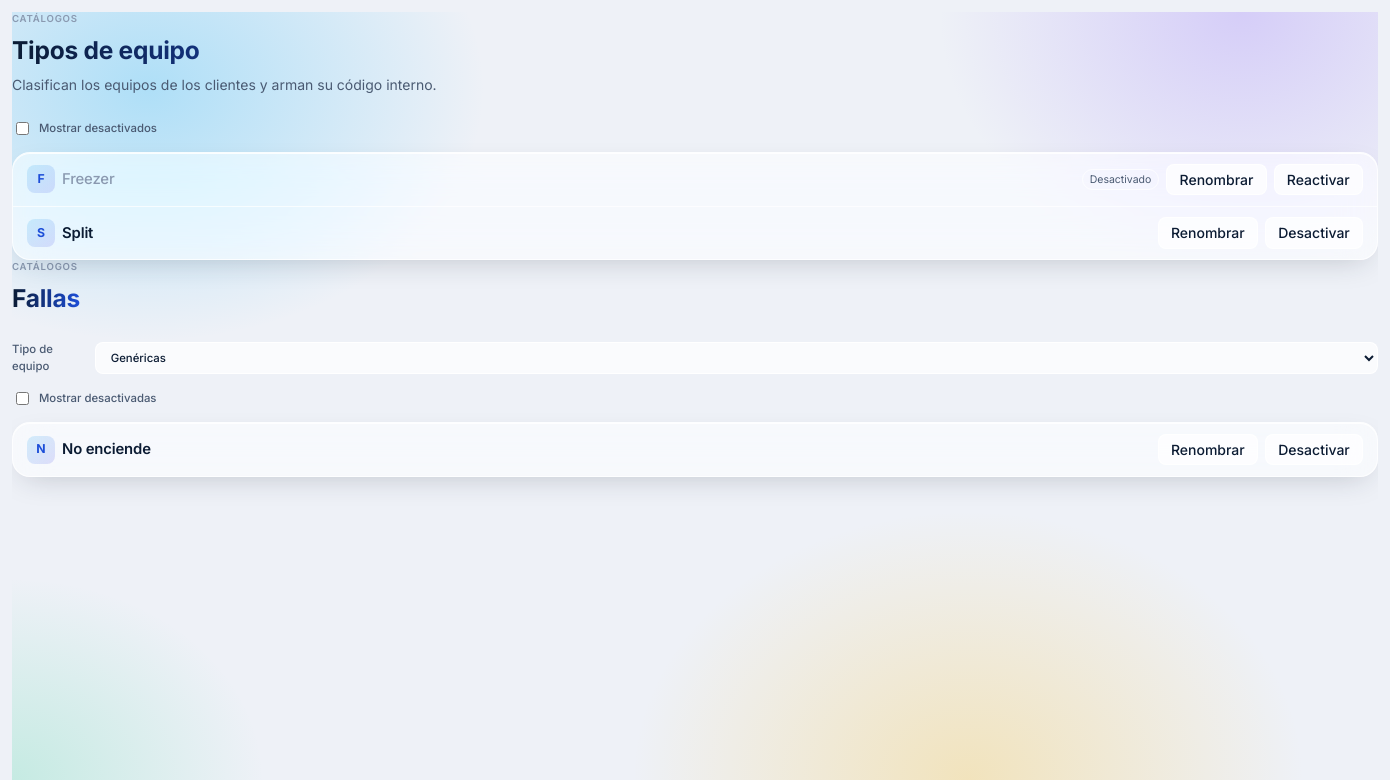
it: FailuresPage › al desactivar un tipo de equipo deja de mostrar sus fallas propias
The image size is (1390, 780).
Check: the text "No enciende" is shown, box [62,440,151,458]
Select "Split" in the dropdown labelled "Tipo de equipo" at coordinates (737, 358), box [95,342,1378,374]
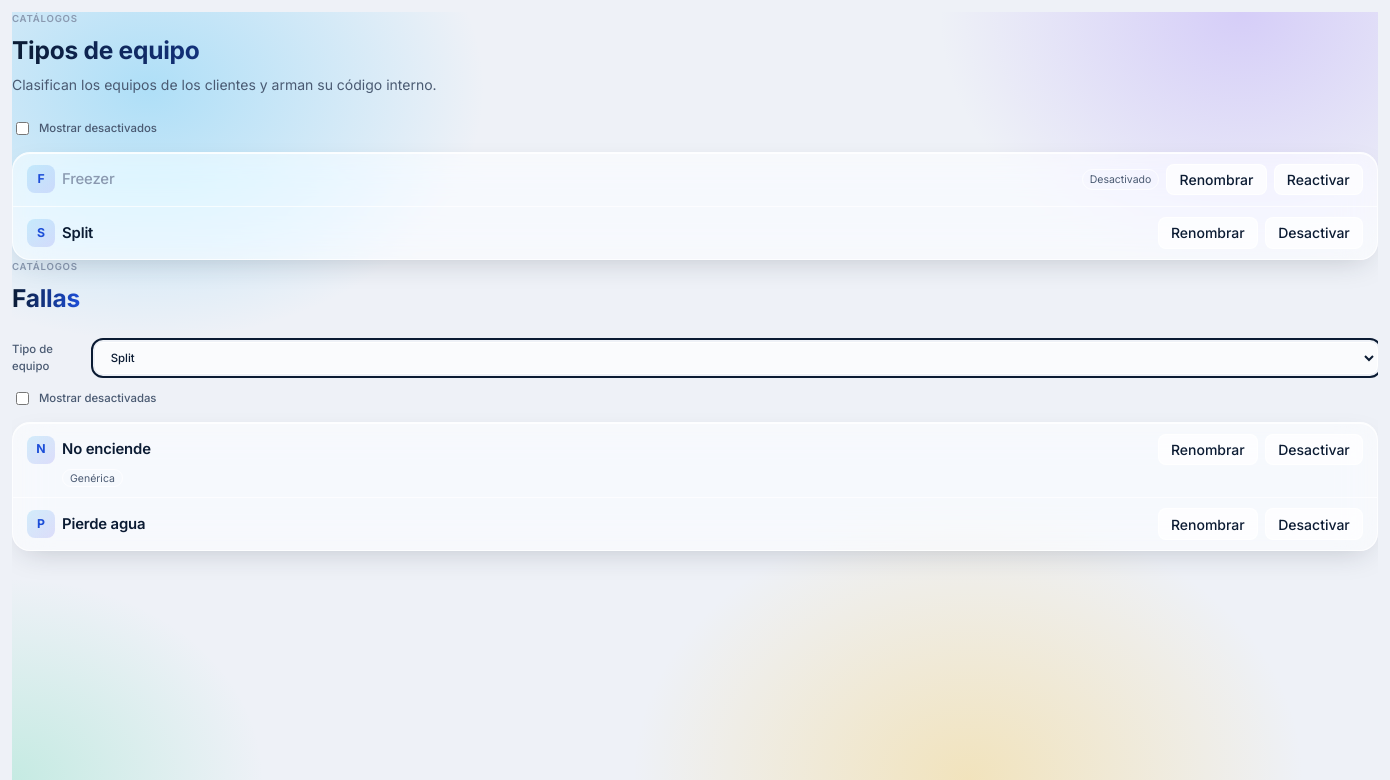
Check: the text "Pierde agua" is shown, box [62,515,146,533]
Click the button with aria-label "Desactivar Split" at coordinates (1314, 233), box [1265,217,1363,249]
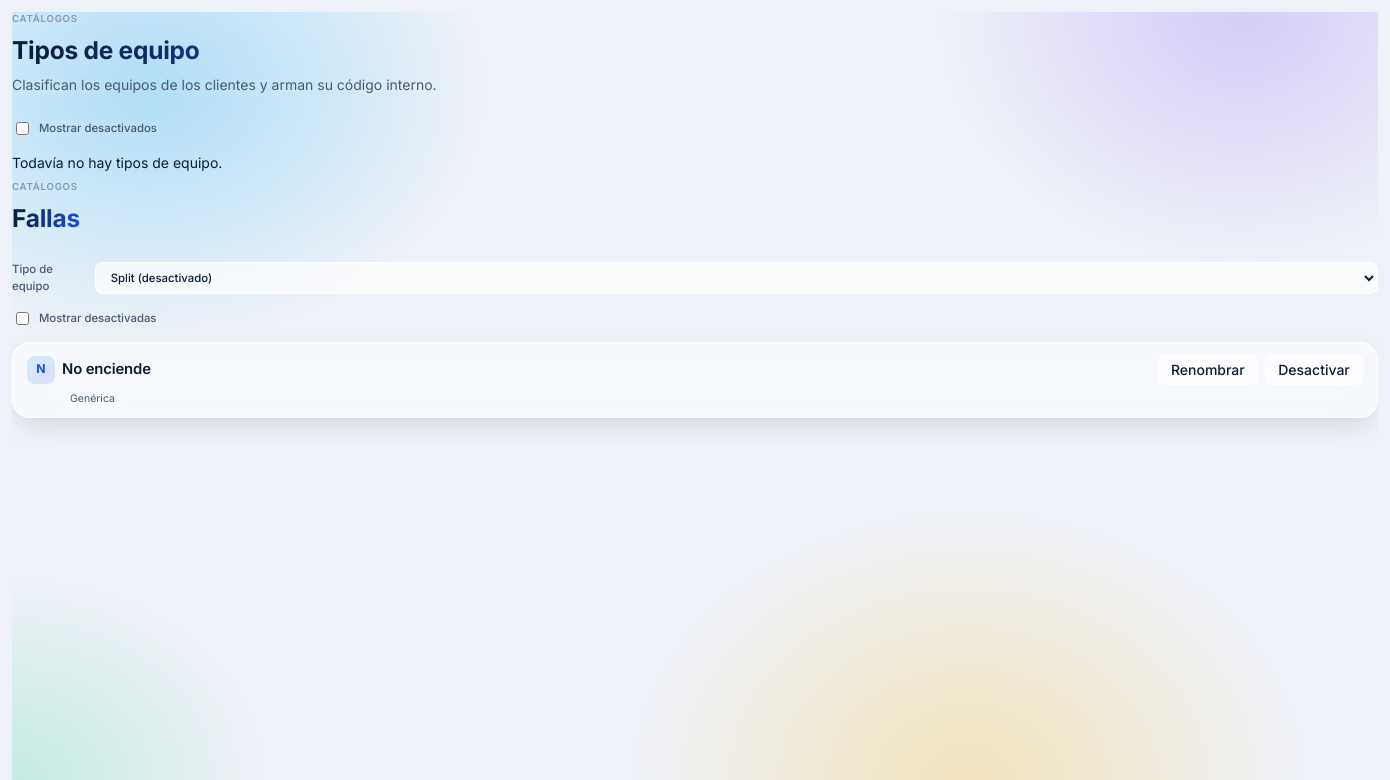
Check: the text "No enciende" is shown, box [62,360,151,378]
Check: the text "Pierde agua" is gone
